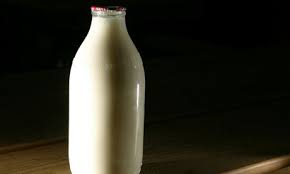milk: (59, 3, 155, 174)
